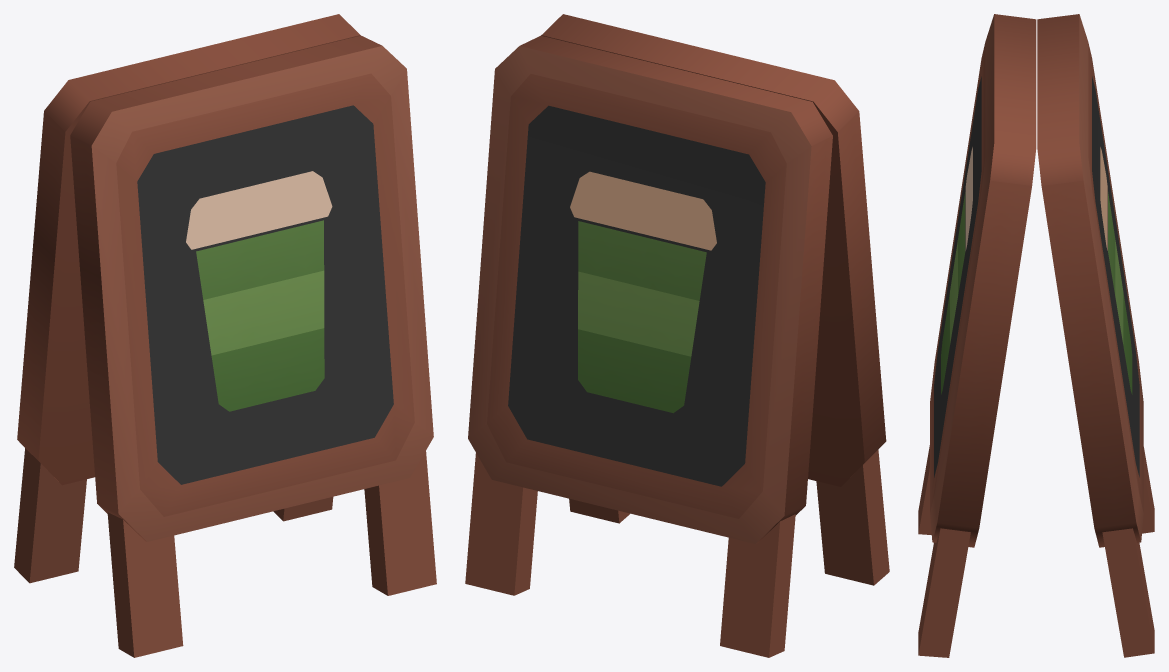
The model's file is Sign-cafe.fbx.
3 views of the same model, side by side, from view 1: azimuth 30°, elevation 25°; view 2: azimuth 150°, elevation 25°; view 3: azimuth 270°, elevation 25° (orthographic). The views are drawn at different scales.
Parts seen in each view (by area): view 1: Sign-cafe; view 2: Sign-cafe; view 3: Sign-cafe.
Part boxes in pixels (x1,y1,x2,y2): Sign-cafe: (14,14,436,657); Sign-cafe: (465,14,889,657); Sign-cafe: (918,14,1154,657).
Size of the model in its own units: 77.78 by 122 by 51.39.
